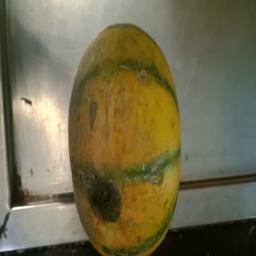Melon Semirotten: (66, 20, 184, 256)
